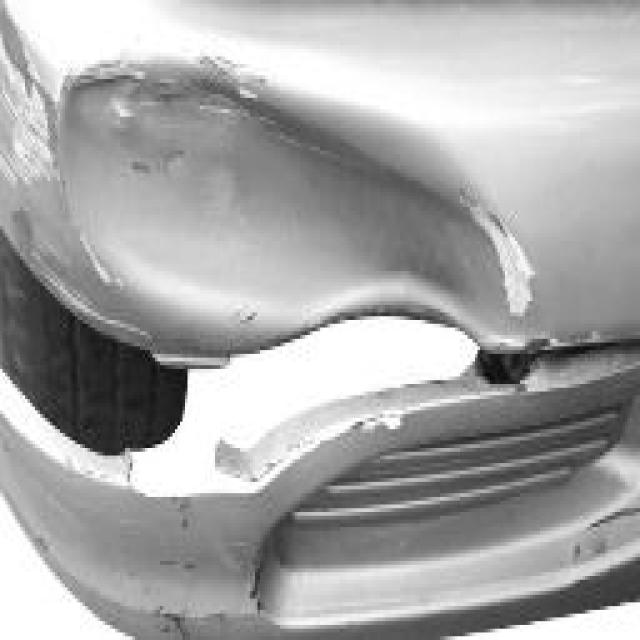Bonnet: (40, 45, 545, 320)
Bumper: (0, 354, 640, 602)
